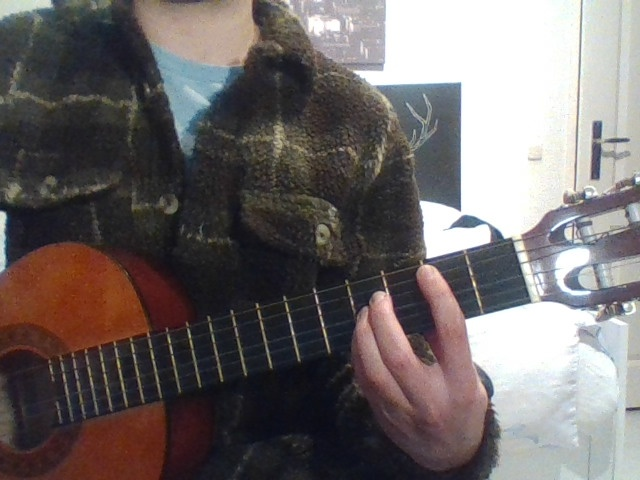B: (333, 256, 516, 475)
